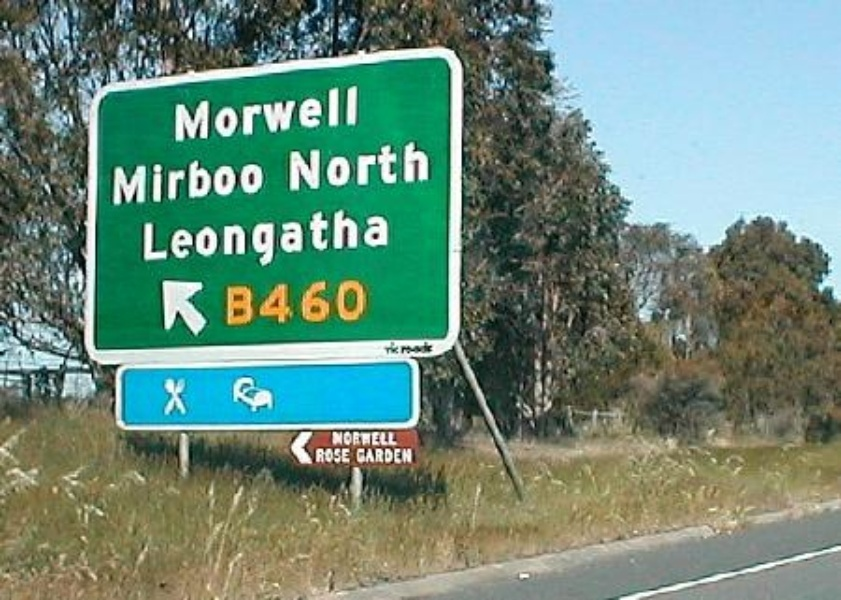text: (145, 204, 160, 270), (161, 204, 176, 270), (177, 204, 192, 270), (193, 204, 208, 270), (209, 204, 224, 270), (225, 204, 240, 270), (241, 204, 256, 270), (257, 204, 272, 270), (273, 204, 288, 270), (289, 204, 304, 270), (305, 204, 320, 270), (321, 204, 336, 270), (337, 204, 352, 270), (353, 204, 368, 270), (369, 204, 384, 270), (177, 81, 192, 144), (193, 81, 208, 144), (209, 81, 224, 144), (225, 81, 240, 144), (241, 81, 256, 144), (257, 81, 272, 144), (273, 81, 288, 144), (289, 81, 304, 144), (305, 81, 320, 144), (321, 81, 336, 144), (337, 81, 352, 144), (113, 152, 128, 208), (129, 152, 144, 208), (145, 152, 160, 208), (161, 152, 176, 208), (177, 152, 192, 208), (193, 152, 208, 208), (209, 152, 224, 208), (225, 152, 240, 208), (241, 152, 256, 208), (289, 139, 304, 195), (305, 139, 320, 195), (321, 139, 336, 195), (337, 139, 352, 195), (353, 139, 368, 195), (369, 139, 384, 195), (385, 139, 400, 195), (401, 139, 416, 195), (353, 277, 369, 328), (225, 277, 240, 328), (241, 277, 256, 328), (257, 277, 272, 328), (273, 277, 288, 328), (289, 277, 304, 328), (305, 277, 320, 328), (321, 277, 336, 328), (337, 277, 352, 328), (417, 139, 430, 195), (257, 152, 268, 208), (353, 81, 361, 144), (385, 204, 391, 270), (321, 447, 336, 466), (337, 447, 352, 466), (337, 430, 352, 447), (353, 430, 368, 447), (369, 430, 384, 447), (369, 447, 384, 464), (385, 447, 400, 464), (172, 81, 176, 144), (385, 430, 399, 447), (401, 447, 415, 464), (385, 341, 400, 356), (401, 341, 416, 356), (417, 341, 432, 356), (356, 447, 368, 464), (141, 204, 144, 270), (314, 447, 320, 466), (331, 430, 336, 447), (223, 277, 224, 328), (353, 447, 354, 466)
